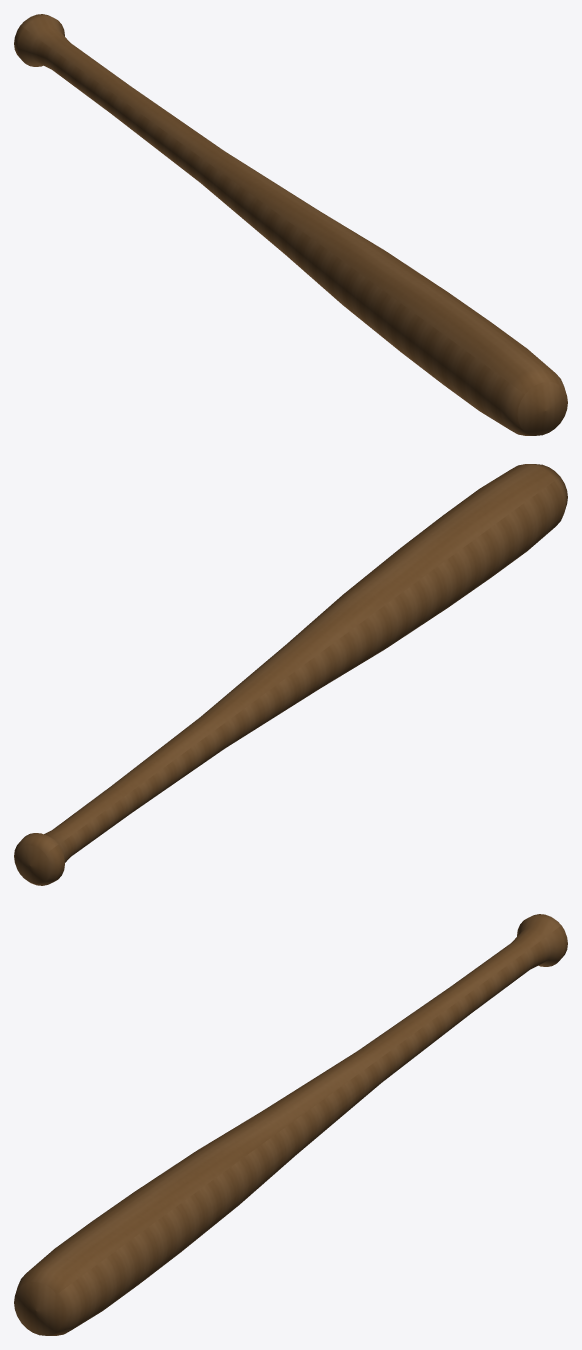
File: PRP_BaseballBat.fbx
3 renders of one model, top to bottom at view 1: azimuth 30°, elevation 25°; view 2: azimuth 150°, elevation 25°; view 3: azimuth 330°, elevation 25°, orthographic.
Visible parts, largest first — view 1: PRP_BaseballBat; view 2: PRP_BaseballBat; view 3: PRP_BaseballBat.
Boxes of the visible parts, bbox=[...] form: PRP_BaseballBat: bbox=[14, 14, 567, 435]; PRP_BaseballBat: bbox=[14, 464, 567, 885]; PRP_BaseballBat: bbox=[14, 914, 567, 1335].
Size of the model in its own units: 6.5 by 6.5 by 85.
